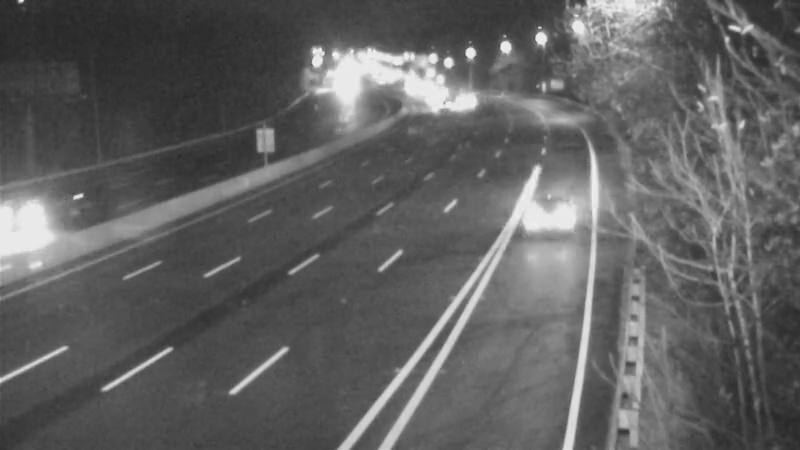vehicle: (506, 174, 586, 254), (1, 180, 79, 260), (444, 79, 494, 129), (410, 82, 460, 132)
